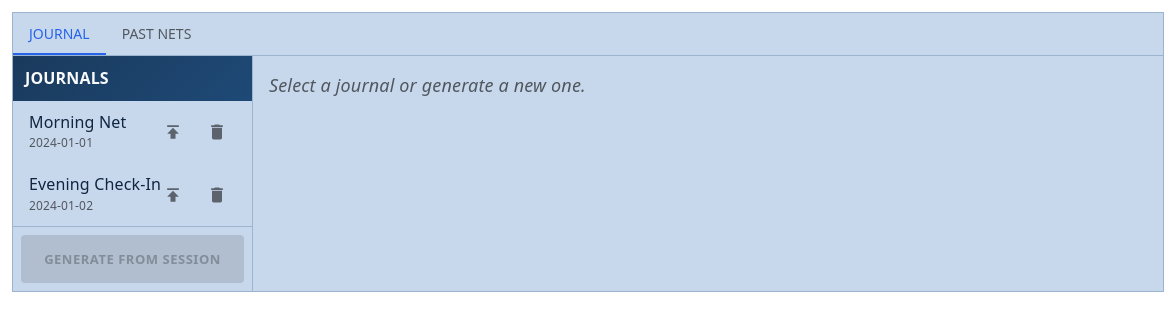
JournalPanel › publish flow › first publish click changes button label to Confirm publish
Click the 1st button named "publish to family journal": (173, 132) top-left (151, 110), bottom-right (195, 154)
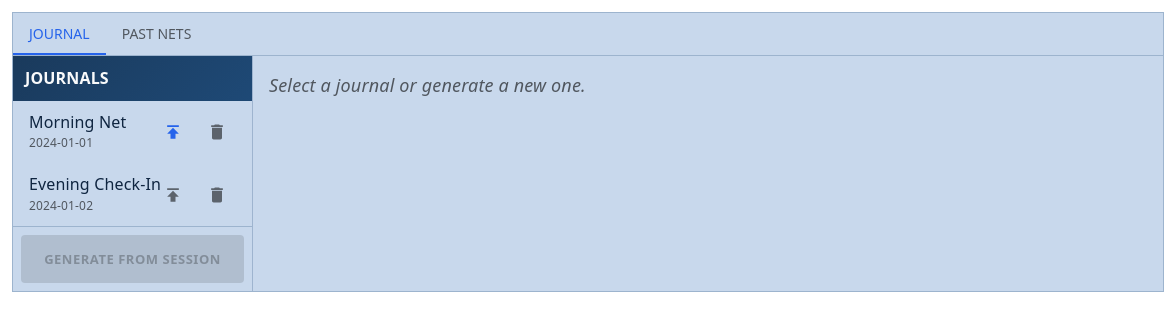
Now the button named "confirm publish" is shown, box top-left (151, 110), bottom-right (195, 154)
